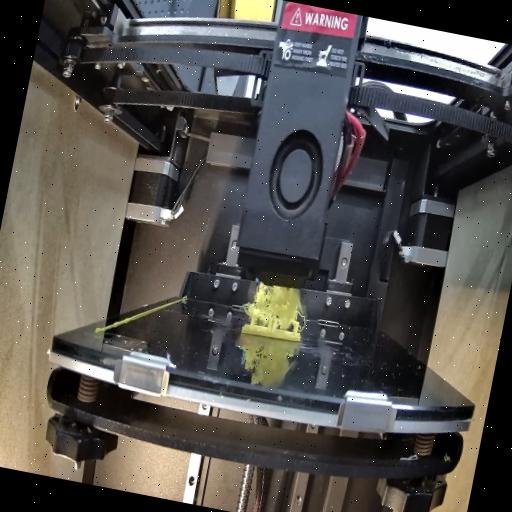spaghetti: (242, 275, 313, 335)
